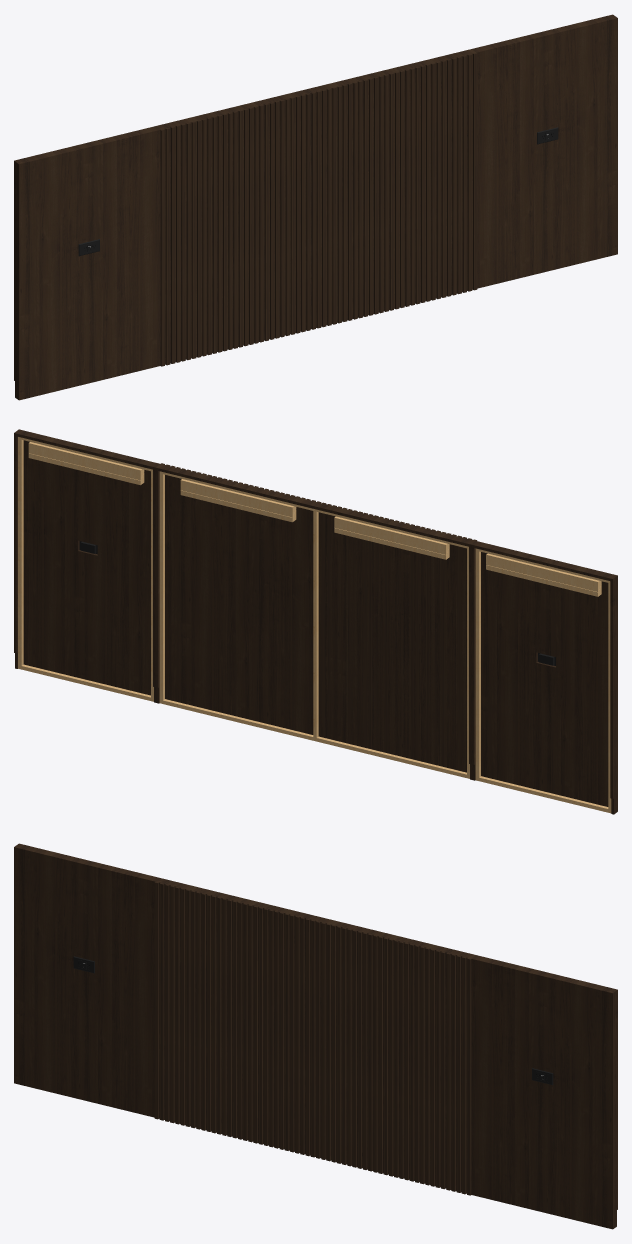
The model's file is 007_Cabecera.glb.
3 renders of one model, top to bottom at view 1: azimuth 30°, elevation 25°; view 2: azimuth 150°, elevation 25°; view 3: azimuth 330°, elevation 25°, orthographic.
Parts seen in each view (by area): view 1: root; view 2: root; view 3: root.
Boxes of the visible parts, x1=… form: root: x1=14, y1=14, x2=617, y2=400; root: x1=14, y1=429, x2=617, y2=814; root: x1=14, y1=843, x2=617, y2=1229.
Bounding box in the file's own units: 3.45 × 1.3 × 0.0615.
6 materials, 3 textured.
